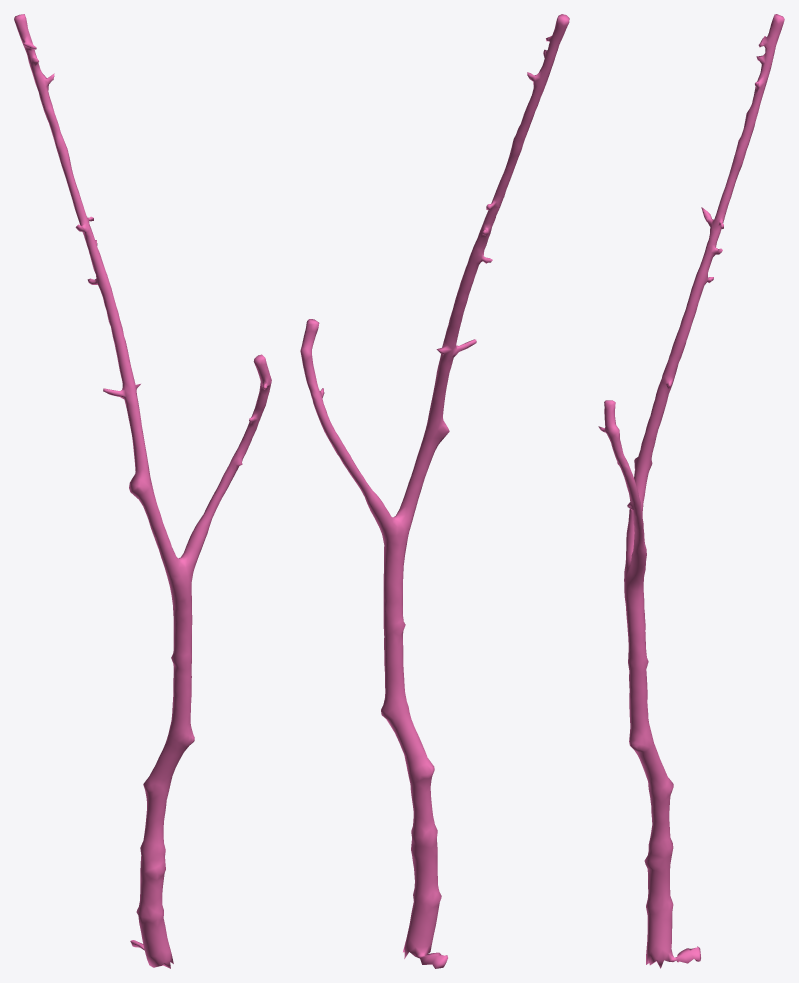
The model's file is stif_mesh_surface.obj.
3 renders of one model, left to right at view 1: azimuth 30°, elevation 25°; view 2: azimuth 210°, elevation 25°; view 3: azimuth 270°, elevation 25°, orthographic. The views are drawn at different scales.
Visible parts, largest first — view 1: defaultGroup; view 2: defaultGroup; view 3: defaultGroup.
Boxes of the visible parts, x1,y1,x2,y2 form: defaultGroup: (14, 14, 271, 968); defaultGroup: (300, 14, 569, 968); defaultGroup: (598, 14, 784, 968).
Bounding box in the file's own units: 0.3334 × 1.71 × 0.3172.
